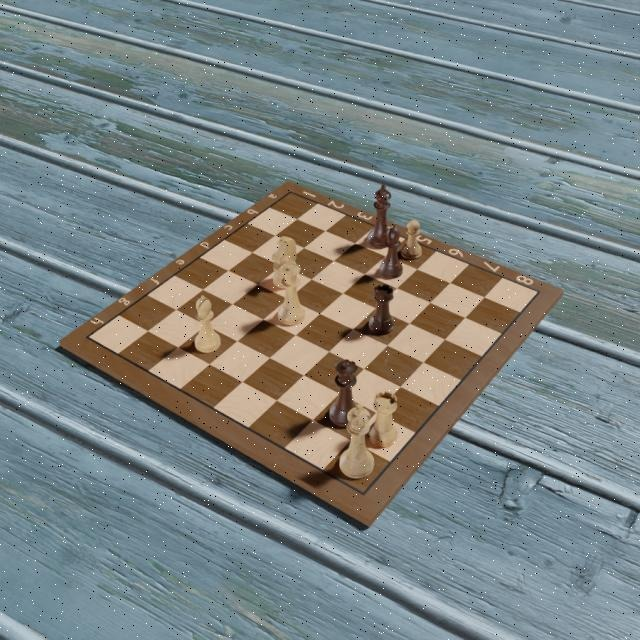black-bishop: (378, 222, 403, 279)
black-king: (366, 181, 394, 250)
black-queen: (329, 358, 359, 429)
black-rook: (368, 284, 396, 336)
white-bishop: (193, 292, 222, 354)
white-king: (338, 403, 376, 480)
white-knight: (271, 235, 299, 288)
white-pawn: (399, 219, 424, 261)
white-queen: (276, 259, 305, 328)
white-rook: (368, 388, 400, 450)
